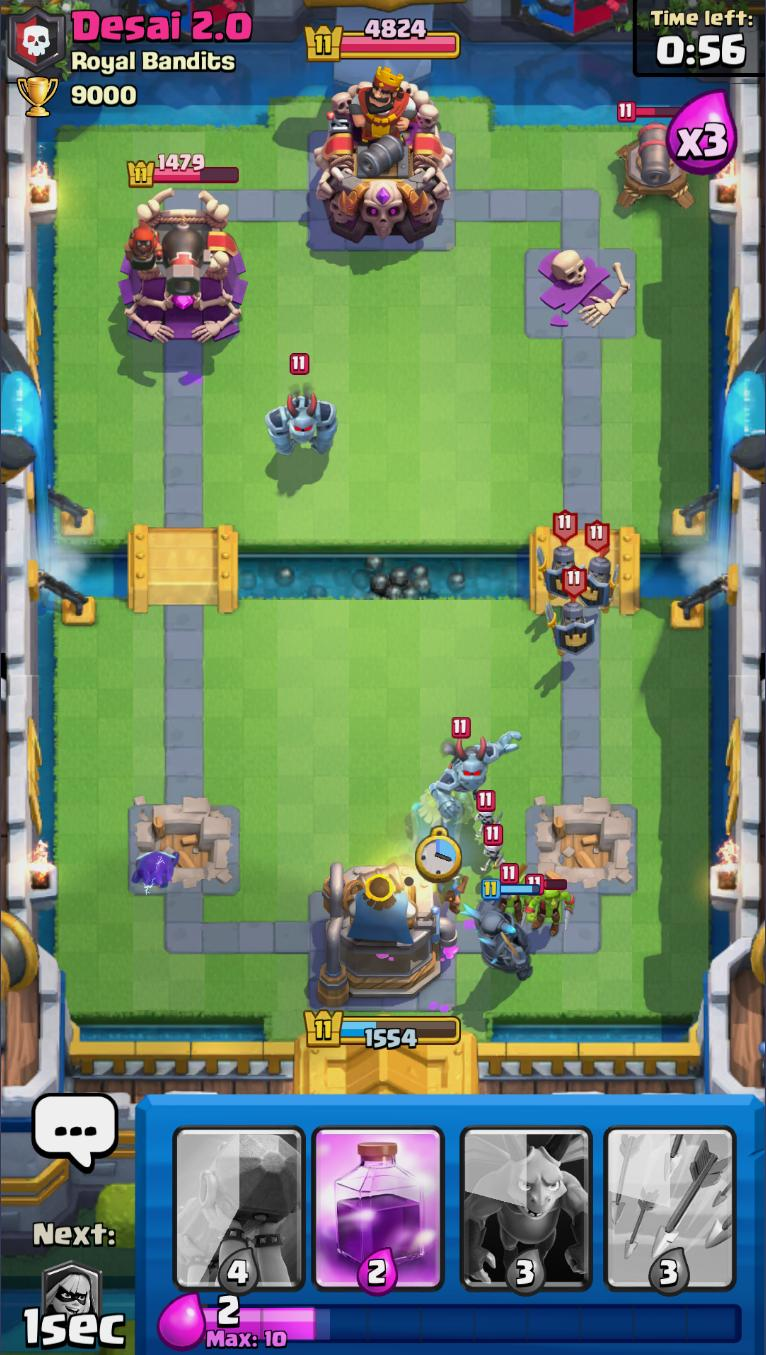ArrowDeck: (601, 1098, 741, 1296)
BanditNext: (40, 1257, 104, 1343)
BattleRamDeck: (167, 1096, 313, 1296)
Cannon: (615, 100, 697, 212)
Cannoneer: (124, 214, 207, 297)
Elixir: (201, 1295, 744, 1349)
EnemyTower: (119, 188, 249, 346)
EnemyTowerBrocken: (522, 249, 639, 341)
Goblin: (527, 873, 575, 931), (495, 864, 531, 910)
Guards: (547, 568, 595, 664), (578, 519, 621, 614), (535, 509, 579, 601)
KingTower: (312, 65, 455, 247)
KingTowerHP: (301, 18, 460, 65)
MegaMinion: (430, 716, 522, 822), (265, 354, 339, 460)
MinionsDeck: (453, 1098, 601, 1296)
MyBandit: (437, 871, 469, 915)
MyElectroSpirit: (126, 850, 185, 890)
MyKingHP: (302, 1006, 462, 1051)
MyKingTower: (314, 859, 458, 1008)
MyPekka: (462, 880, 542, 981)
MyPrincessTowerBrocken: (125, 800, 244, 900), (521, 800, 641, 899)
MyRoyaleGhost: (405, 788, 464, 852)
RageDeck: (311, 1097, 455, 1295)
Skeleton: (477, 824, 509, 876), (473, 791, 502, 835)
TowerPrincessHP: (127, 154, 242, 191)
